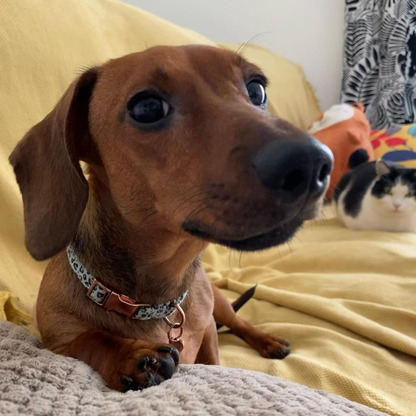dachshund: (22, 51, 350, 405)
